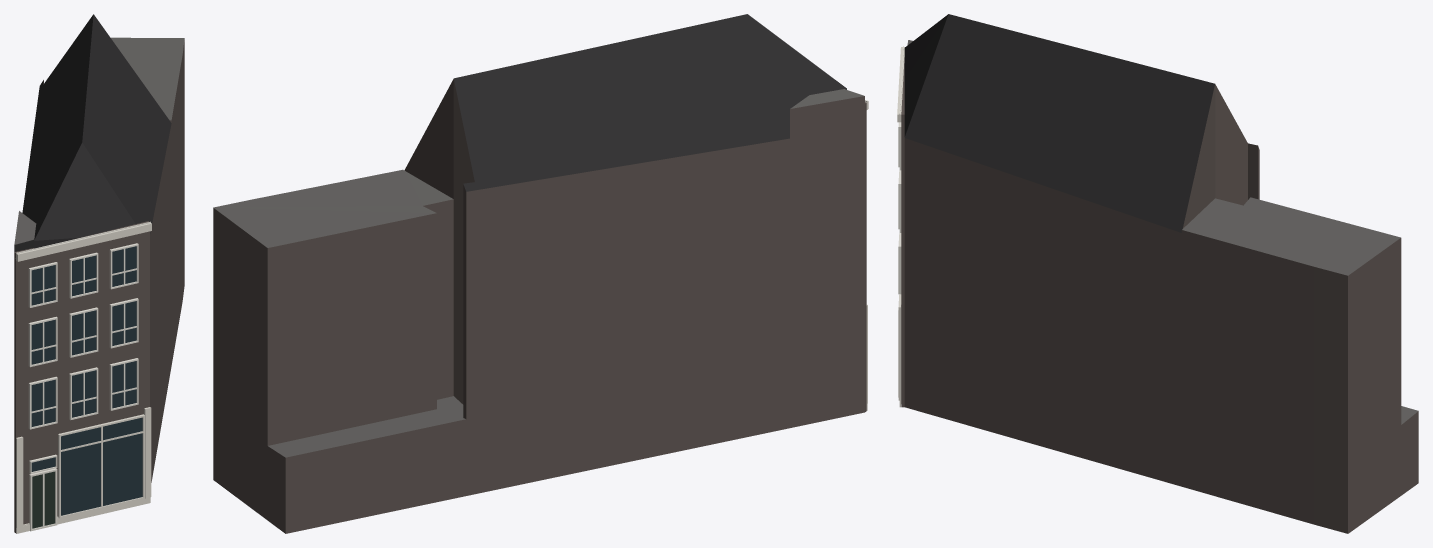
The picture shows the model from 3 angles, left to right: view 1: azimuth 30°, elevation 25°; view 2: azimuth 150°, elevation 25°; view 3: azimuth 270°, elevation 25°; orthographic projection. The views are drawn at different scales.
Parts seen in each view (by area): view 1: spec-0363100012182303; view 2: spec-0363100012182303; view 3: spec-0363100012182303.
Part boxes in pixels (box(x1,y1,x2,y2)): spec-0363100012182303: box(14, 14, 184, 533); spec-0363100012182303: box(213, 14, 868, 533); spec-0363100012182303: box(897, 14, 1418, 533).
Bounding box in the file's own units: 19.22 × 17.14 × 21.82.
